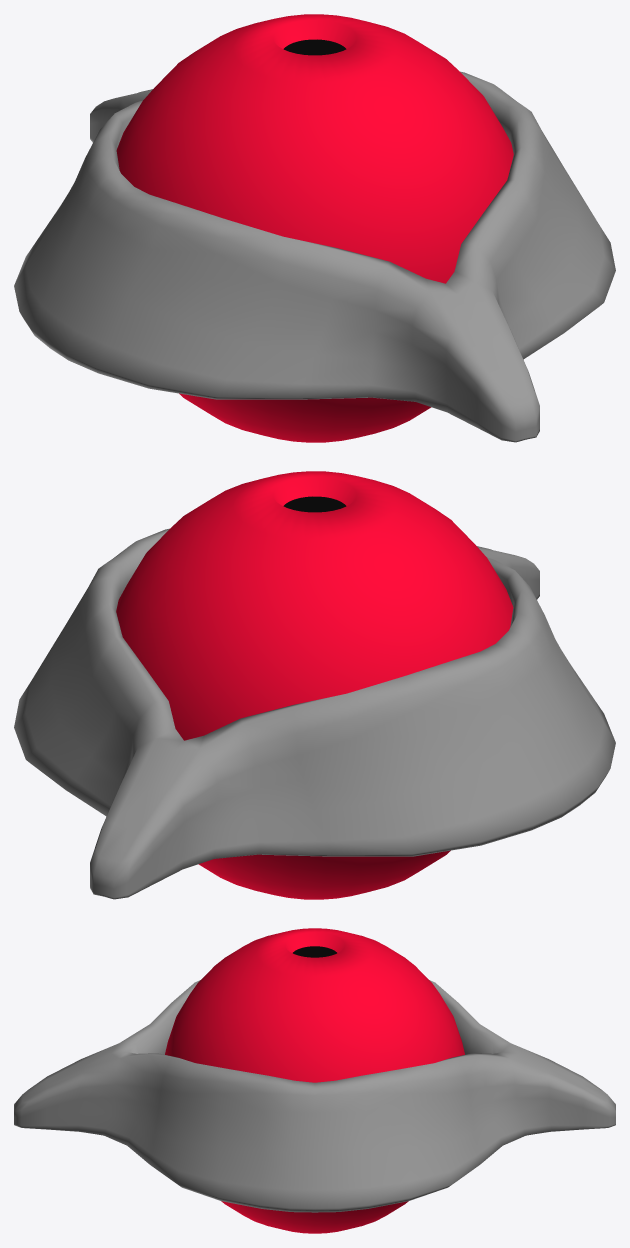
The model's file is M_Eye.FBX.
3 views of the same model, one above another, from view 1: azimuth 30°, elevation 25°; view 2: azimuth 150°, elevation 25°; view 3: azimuth 270°, elevation 25° (orthographic). The views are drawn at different scales.
Parts seen in each view (by area): view 1: Line001, Sphere001, Cylinder001; view 2: Line001, Sphere001, Cylinder001; view 3: Line001, Sphere001.
Part boxes in pixels (bbox=[...]): Line001: bbox=[14, 71, 615, 442]; Sphere001: bbox=[116, 14, 513, 442]; Cylinder001: bbox=[283, 39, 346, 55]; Line001: bbox=[14, 528, 615, 899]; Sphere001: bbox=[116, 471, 513, 899]; Cylinder001: bbox=[283, 496, 346, 512]; Line001: bbox=[14, 980, 615, 1212]; Sphere001: bbox=[165, 928, 464, 1233].
Bounding box in the file's own units: 624 × 429 × 852.
